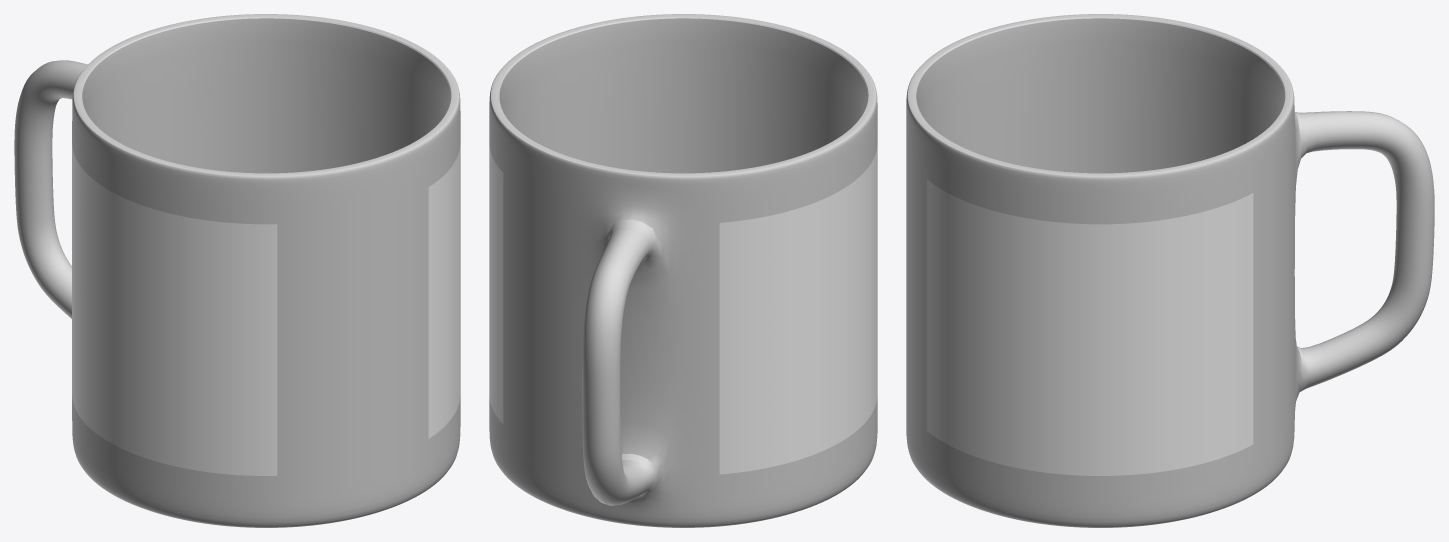
Rendered from mug_v0.2.gltf.
3 views of the same model, side by side, from view 1: azimuth 30°, elevation 25°; view 2: azimuth 150°, elevation 25°; view 3: azimuth 270°, elevation 25° (orthographic).
Visible parts, largest first — view 1: main, surface_front, surface_back; view 2: main, surface_front, surface_back; view 3: main, surface_back.
Boxes of the visible parts, <box> form: main: <box>14,14,460,527</box>; surface_front: <box>72,143,277,475</box>; surface_back: <box>428,143,460,438</box>; main: <box>489,14,877,527</box>; surface_front: <box>719,145,877,474</box>; surface_back: <box>489,146,503,423</box>; main: <box>906,14,1434,527</box>; surface_back: <box>927,179,1253,475</box>.
Size of the model in its own units: 2.04 by 2.05 by 2.78.
3 materials, 2 textured.
